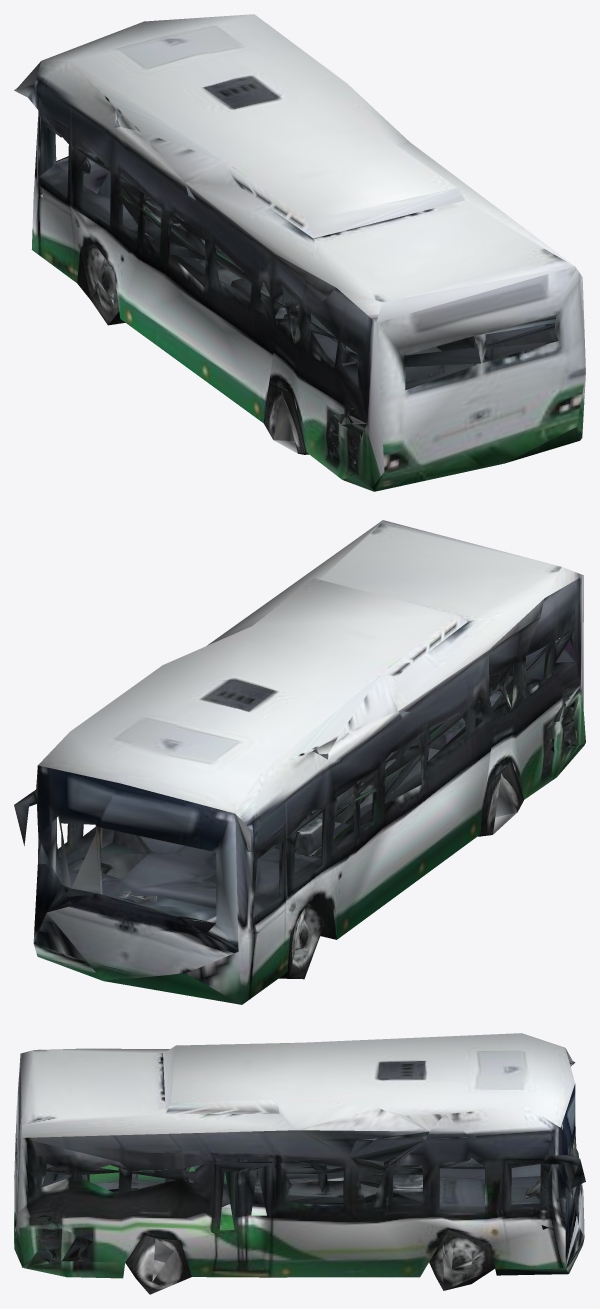
Rendered from bus-lod1.glb.
The picture shows the model from 3 angles, top to bottom: view 1: azimuth 30°, elevation 25°; view 2: azimuth 150°, elevation 25°; view 3: azimuth 270°, elevation 25°; orthographic projection. The views are drawn at different scales.
Visible parts, largest first — view 1: tripo_node_3ed6d47d; view 2: tripo_node_3ed6d47d; view 3: tripo_node_3ed6d47d.
Boxes of the visible parts, <box> form: tripo_node_3ed6d47d: <box>14,14,585,491</box>; tripo_node_3ed6d47d: <box>14,520,585,1004</box>; tripo_node_3ed6d47d: <box>14,1033,585,1294</box>.
Size of the model in its own units: 4.43 by 4.3 by 11.8.
1 material, 1 textured.
